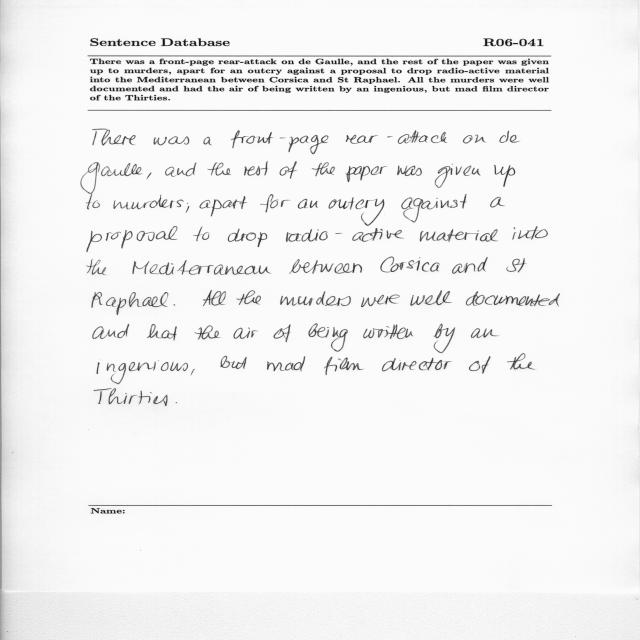word: (81, 162, 142, 209), (87, 226, 178, 252), (231, 130, 329, 154), (97, 360, 188, 384), (133, 260, 272, 275), (401, 195, 467, 223), (92, 292, 168, 315), (286, 228, 404, 242), (329, 197, 385, 226), (346, 130, 447, 144), (466, 292, 560, 307), (94, 388, 168, 406), (308, 324, 348, 352), (435, 164, 481, 188), (289, 259, 362, 274), (280, 291, 351, 306), (114, 195, 184, 210), (420, 229, 498, 242), (200, 196, 248, 217), (382, 358, 452, 371), (380, 257, 440, 272), (324, 357, 364, 375), (363, 325, 414, 339), (228, 229, 267, 247), (93, 129, 136, 145), (410, 290, 452, 306), (346, 166, 387, 182), (452, 257, 488, 274), (434, 324, 455, 353), (267, 357, 305, 372), (260, 195, 290, 213), (93, 324, 129, 339), (147, 324, 177, 340), (512, 227, 548, 240), (361, 295, 400, 307), (166, 162, 197, 177), (494, 165, 515, 187), (508, 354, 535, 370), (195, 325, 221, 340), (469, 356, 490, 374), (236, 290, 261, 305), (203, 290, 226, 306), (244, 161, 268, 176), (220, 356, 247, 369), (279, 161, 297, 179), (273, 325, 291, 343), (312, 163, 335, 177), (154, 137, 189, 146), (208, 163, 232, 176), (87, 259, 106, 275), (507, 258, 527, 273), (233, 327, 258, 339), (397, 165, 422, 176), (471, 328, 498, 338), (193, 227, 210, 242), (499, 131, 520, 143), (463, 135, 486, 144), (298, 199, 318, 209), (490, 197, 505, 207), (203, 137, 212, 145), (93, 200, 100, 208), (147, 173, 152, 179), (186, 203, 189, 213), (191, 369, 195, 375), (174, 304, 176, 306), (175, 402, 177, 403)
